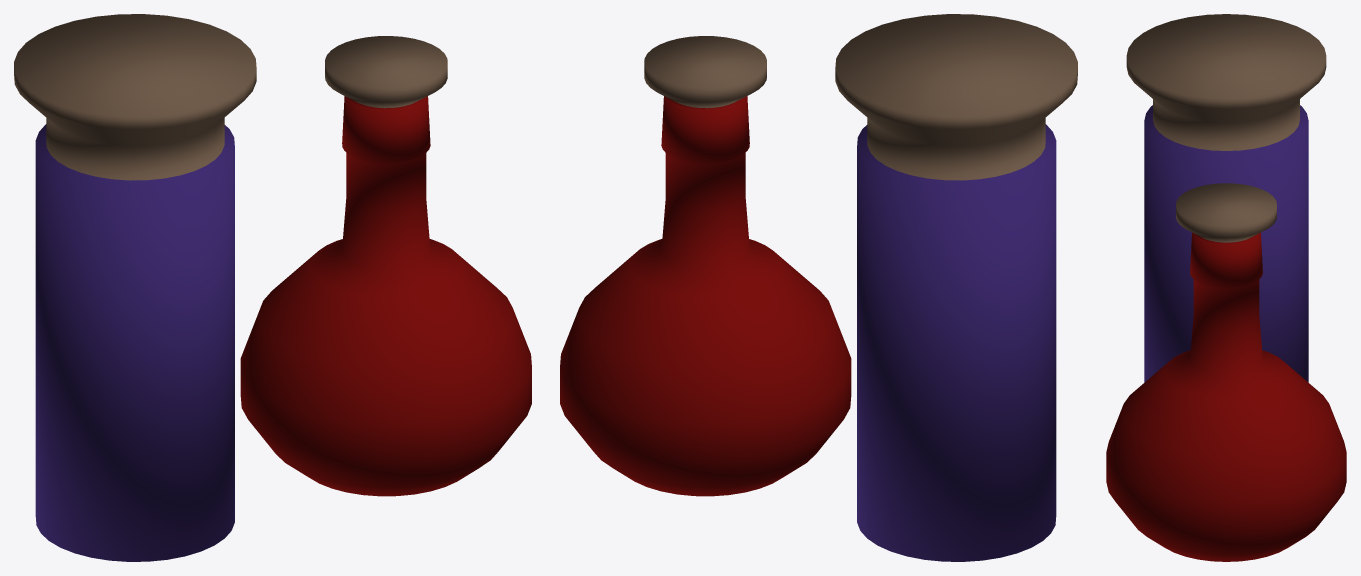
Rendered from Potions.fbx.
3 renders of one model, left to right at view 1: azimuth 30°, elevation 25°; view 2: azimuth 150°, elevation 25°; view 3: azimuth 270°, elevation 25°, orthographic. The views are drawn at different scales.
Visible parts, largest first — view 1: Cylinder.001, Cylinder; view 2: Cylinder.001, Cylinder; view 3: Cylinder, Cylinder.001.
Boxes of the visible parts, x1,y1,x2,y2 form: Cylinder.001: (14, 14, 256, 561); Cylinder: (240, 36, 531, 496); Cylinder.001: (835, 14, 1077, 561); Cylinder: (560, 36, 851, 496); Cylinder: (1106, 183, 1346, 561); Cylinder.001: (1126, 14, 1326, 382).
Bounding box in the file's own units: 624 × 561 × 327.
